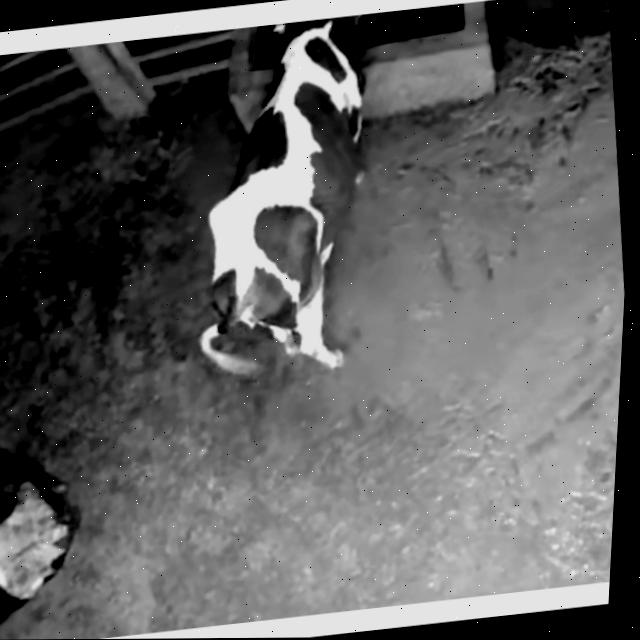drink: (228, 7, 421, 111)
